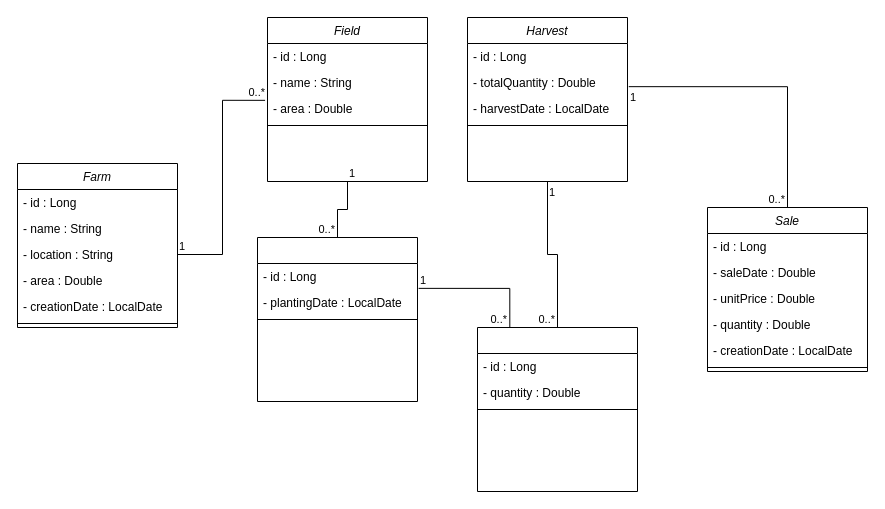
This 885x509 diagram has some shape labels left out. Each missing label, with the box of its shape:
HarvestDetail: (476, 326, 638, 492)
Tree: (256, 236, 418, 402)
